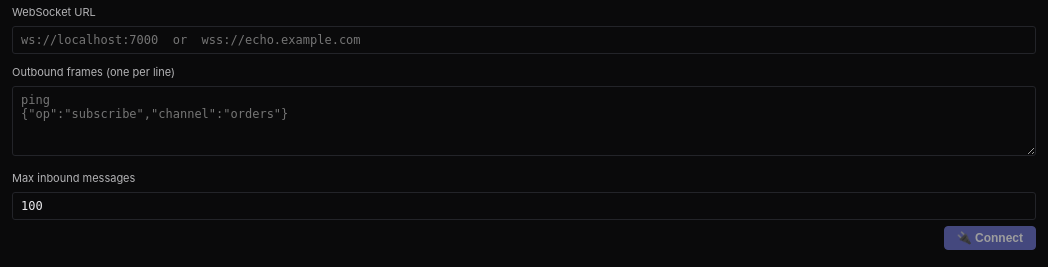
Scenario: WebSocketTab — form + connect › Connect is disabled until a URL is entered
Expected: the button with test id "ca-ws-connect-btn" is disabled, [944,226,1036,250]
In the field labelled "WebSocket URL": (524, 40) [12,26,1036,54], type "ws://localhost:7000"
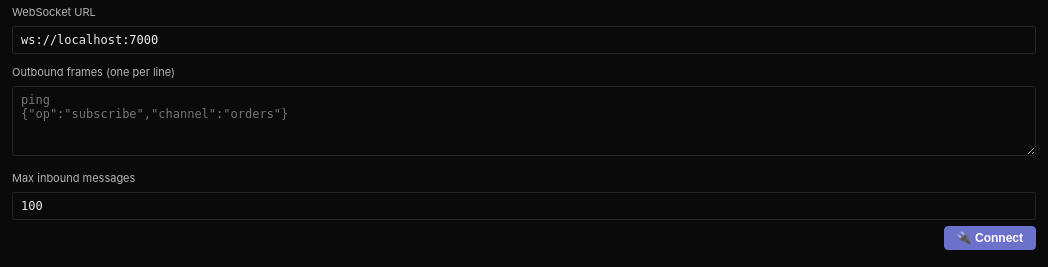
Now the button with test id "ca-ws-connect-btn" is enabled, box [944,226,1036,250]
